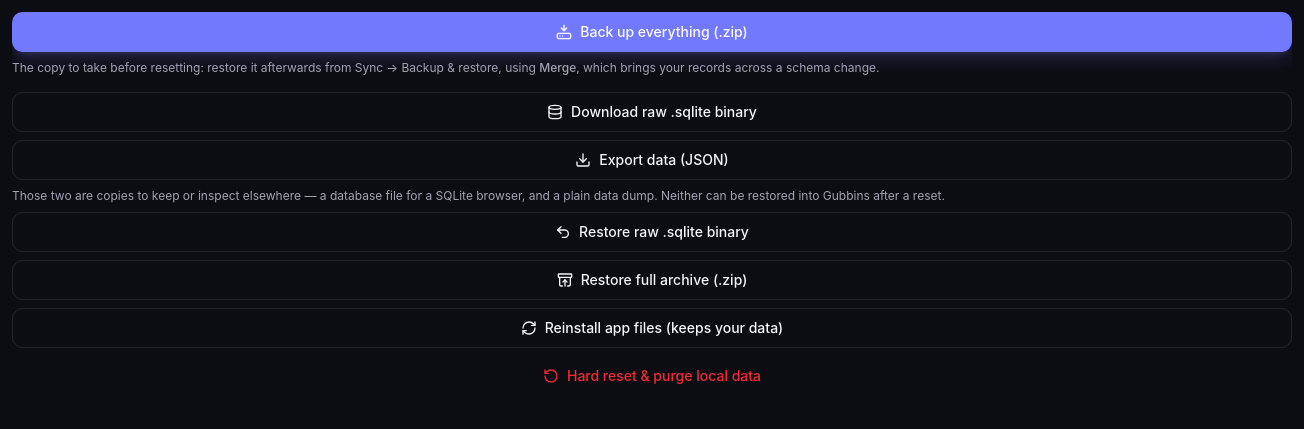
it: RescueActions › clears a previous failure when another action is started
Click the button "Download raw .sqlite binary" at (652, 112), box [12,92,1292,132]
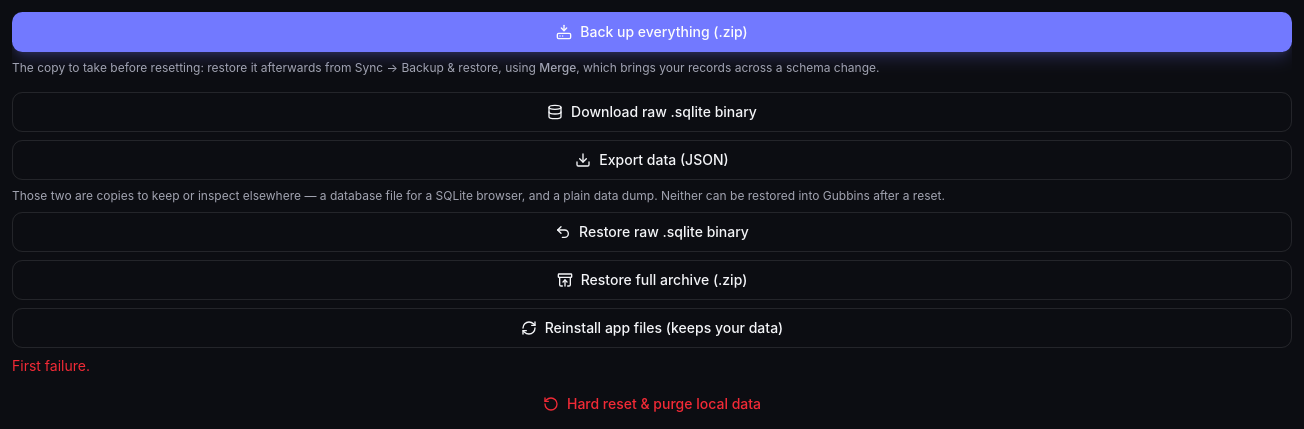
Expected: the message reads "First failure.", [12,357,90,374]
Click the button "Export data (JSON)" at (652, 160), box [12,140,1292,180]
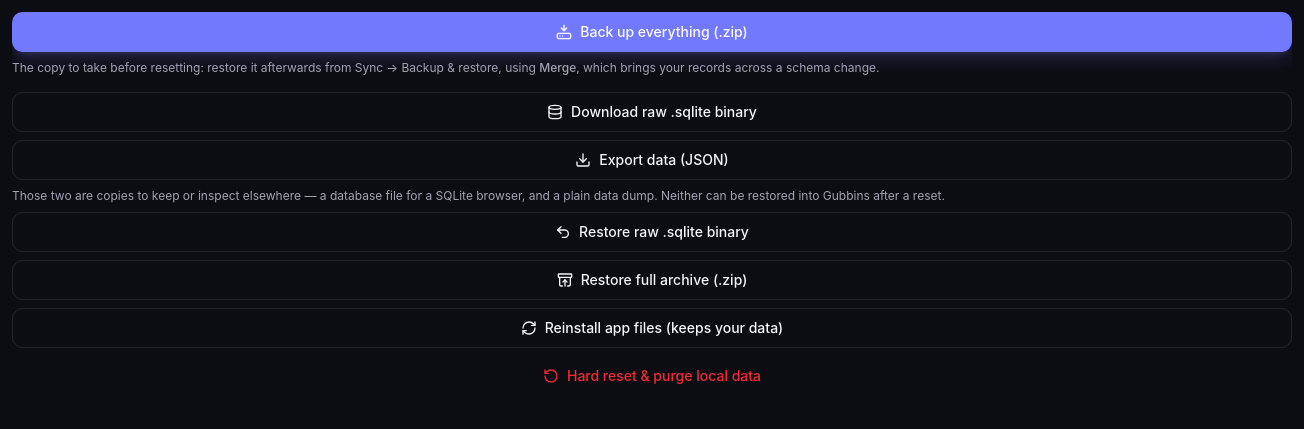
Expected: the message "First failure." is gone
